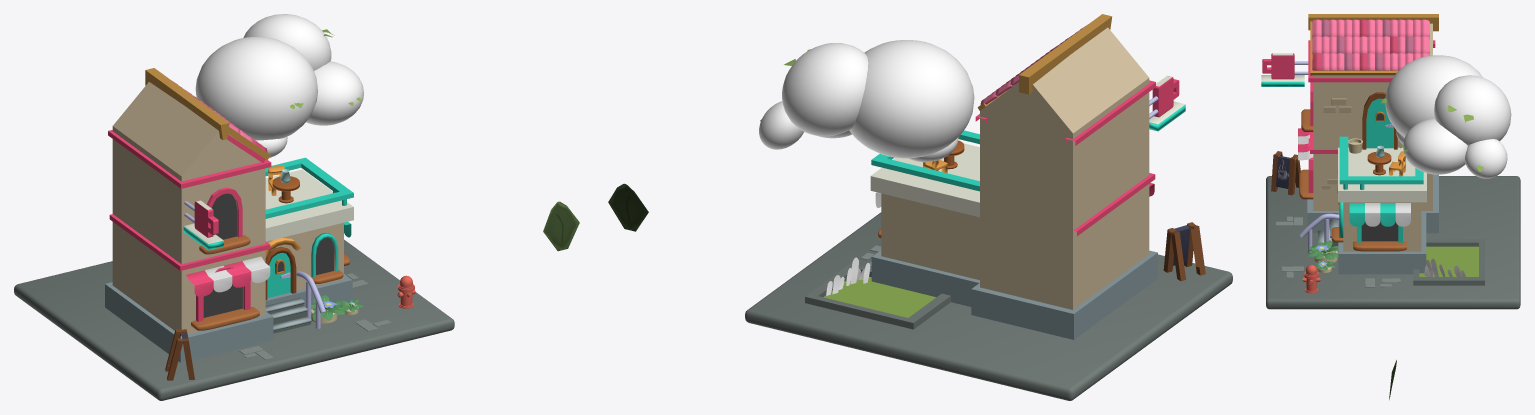
Rendered from dalou1.glb.
3 views of the same model, side by side, from view 1: azimuth 30°, elevation 25°; view 2: azimuth 150°, elevation 25°; view 3: azimuth 270°, elevation 25° (orthographic). The views are drawn at different scales.
Visible parts, largest first — view 1: house1, Base, Sphere.002, house2, Sphere, Sphere.005, tenda.001, outside_wood, house_structure.003, window, window.001, house_structure.001 (+9 smaller); view 2: house1, Base, house2, Sphere.002, Sphere.005, Cube.003, house_structure.003, board, outside_wood, Sphere.003, Plane.002, house_structure.001 (+2 smaller); view 3: Base, house2, house1, roof, Sphere.005, Sphere.002, Cube.003, Sphere, door, tenda, Sphere.003, outside_wood (+17 smaller).
Part boxes in pixels (x1=…): house1: x1=105, y1=82, x2=273, y2=362; Base: x1=14, y1=239, x2=454, y2=400; Sphere.002: x1=195, y1=36, x2=317, y2=140; house2: x1=265, y1=169, x2=353, y2=307; Sphere: x1=306, y1=61, x2=363, y2=125; Sphere.005: x1=243, y1=14, x2=331, y2=70; tenda.001: x1=186, y1=256, x2=270, y2=296; outside_wood: x1=265, y1=157, x2=353, y2=218; house_structure.003: x1=145, y1=68, x2=229, y2=139; window: x1=206, y1=187, x2=242, y2=239; window.001: x1=196, y1=266, x2=250, y2=321; house_structure.001: x1=108, y1=130, x2=271, y2=188; house1: x1=971, y1=27, x2=1157, y2=339; Base: x1=745, y1=212, x2=1232, y2=400; house2: x1=870, y1=143, x2=979, y2=306; Sphere.002: x1=849, y1=40, x2=974, y2=158; Sphere.005: x1=782, y1=43, x2=868, y2=136; Cube.003: x1=805, y1=263, x2=950, y2=329; house_structure.003: x1=1019, y1=14, x2=1112, y2=94; board: x1=1163, y1=222, x2=1205, y2=281; outside_wood: x1=871, y1=130, x2=979, y2=191; Sphere.003: x1=759, y1=101, x2=803, y2=149; Plane.002: x1=608, y1=183, x2=648, y2=231; house_structure.001: x1=975, y1=80, x2=1155, y2=145; Base: x1=1266, y1=176, x2=1520, y2=309; house2: x1=1338, y1=147, x2=1426, y2=274; house1: x1=1307, y1=23, x2=1438, y2=233; roof: x1=1312, y1=19, x2=1429, y2=70; Sphere.005: x1=1434, y1=75, x2=1511, y2=145; Sphere.002: x1=1385, y1=55, x2=1482, y2=137; Cube.003: x1=1413, y1=239, x2=1484, y2=285; Sphere: x1=1403, y1=119, x2=1467, y2=174; door: x1=1362, y1=92, x2=1397, y2=149; tenda: x1=1349, y1=203, x2=1410, y2=226; Sphere.003: x1=1465, y1=139, x2=1507, y2=178; outside_wood: x1=1339, y1=136, x2=1423, y2=184.
Bounding box in the file's own units: 22.51 × 11.12 × 11.81.
Materials: 38 (2 with a texture image).
